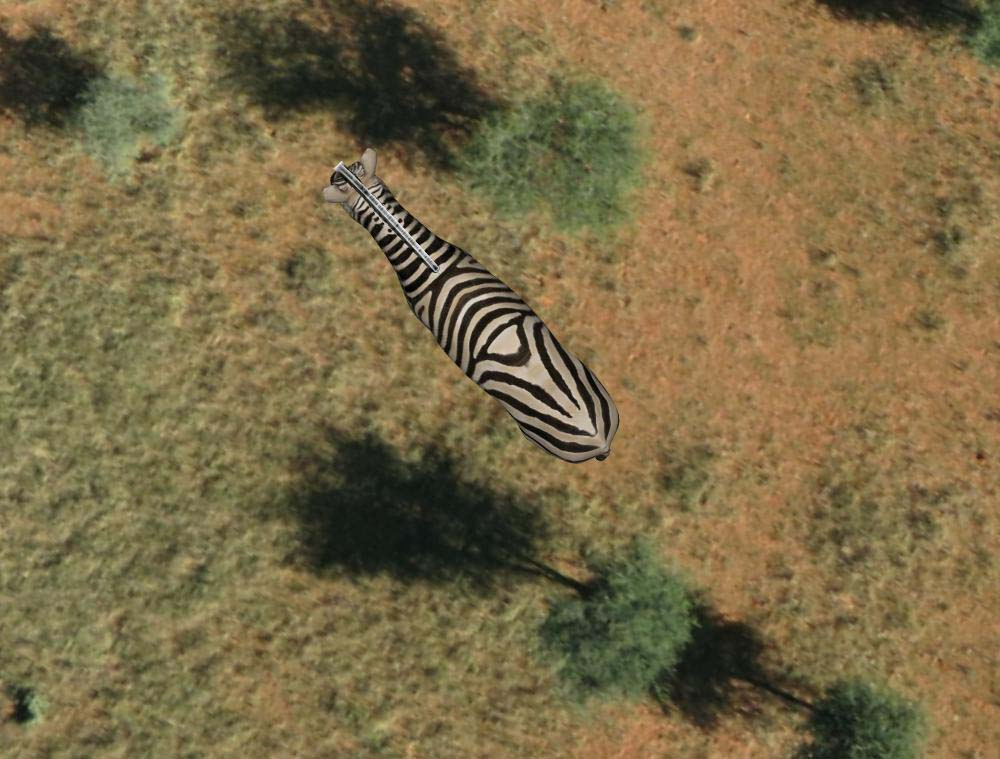zebra: (321, 143, 620, 467)
